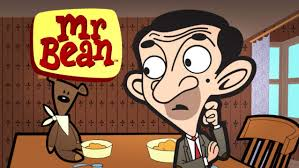mrbean: (123, 9, 258, 168)
